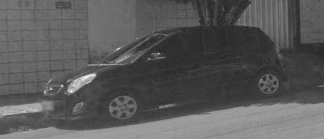car: (40, 27, 290, 121)
